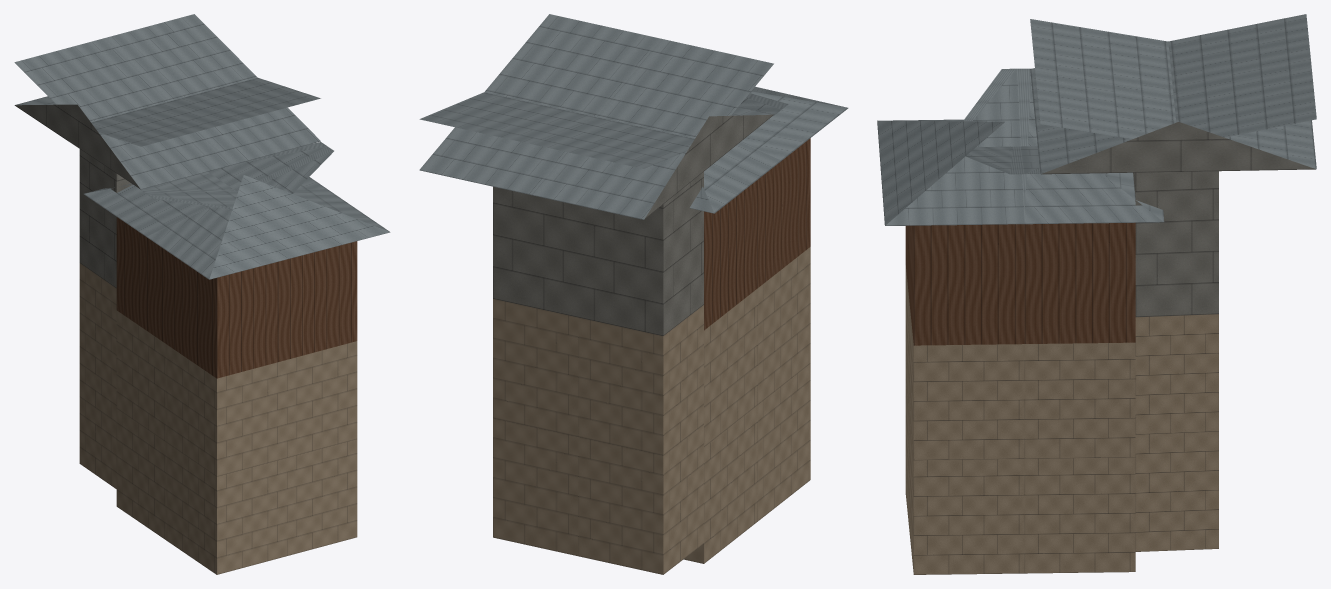
File: bld_c10_20_423.gltf
The picture shows the model from 3 angles, left to right: view 1: azimuth 30°, elevation 25°; view 2: azimuth 150°, elevation 25°; view 3: azimuth 270°, elevation 25°; orthographic projection. The views are drawn at different scales.
Visible parts, largest first — view 1: bld_c10_20_423; view 2: bld_c10_20_423; view 3: bld_c10_20_423.
Boxes of the visible parts, left/top/right/bottom form: bld_c10_20_423: left=14, top=14, right=390, bottom=574; bld_c10_20_423: left=419, top=14, right=848, bottom=574; bld_c10_20_423: left=877, top=14, right=1316, bottom=574.
Size of the model in its own units: 4.78 by 9.2 by 7.95.
Materials: 5 (5 with a texture image).
